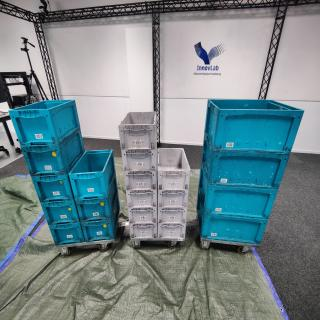Box8G: (119, 112, 159, 151), (158, 148, 191, 192), (121, 150, 159, 172), (125, 170, 160, 192), (158, 189, 191, 211), (158, 209, 189, 227), (129, 208, 159, 225), (129, 191, 157, 209), (159, 225, 190, 241), (130, 225, 158, 239)
BoxB4: (205, 98, 307, 157), (202, 137, 293, 192), (197, 167, 280, 224), (196, 192, 270, 249)
BoxB8: (8, 98, 83, 147), (20, 128, 87, 179), (70, 151, 119, 201), (77, 175, 124, 224), (82, 195, 124, 245), (31, 175, 75, 207), (41, 200, 80, 234), (50, 222, 87, 248)
